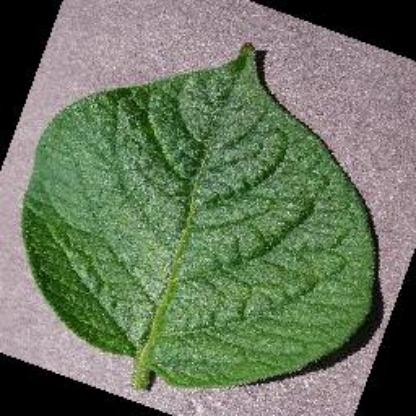Healthy-plant: (8, 18, 380, 396)
